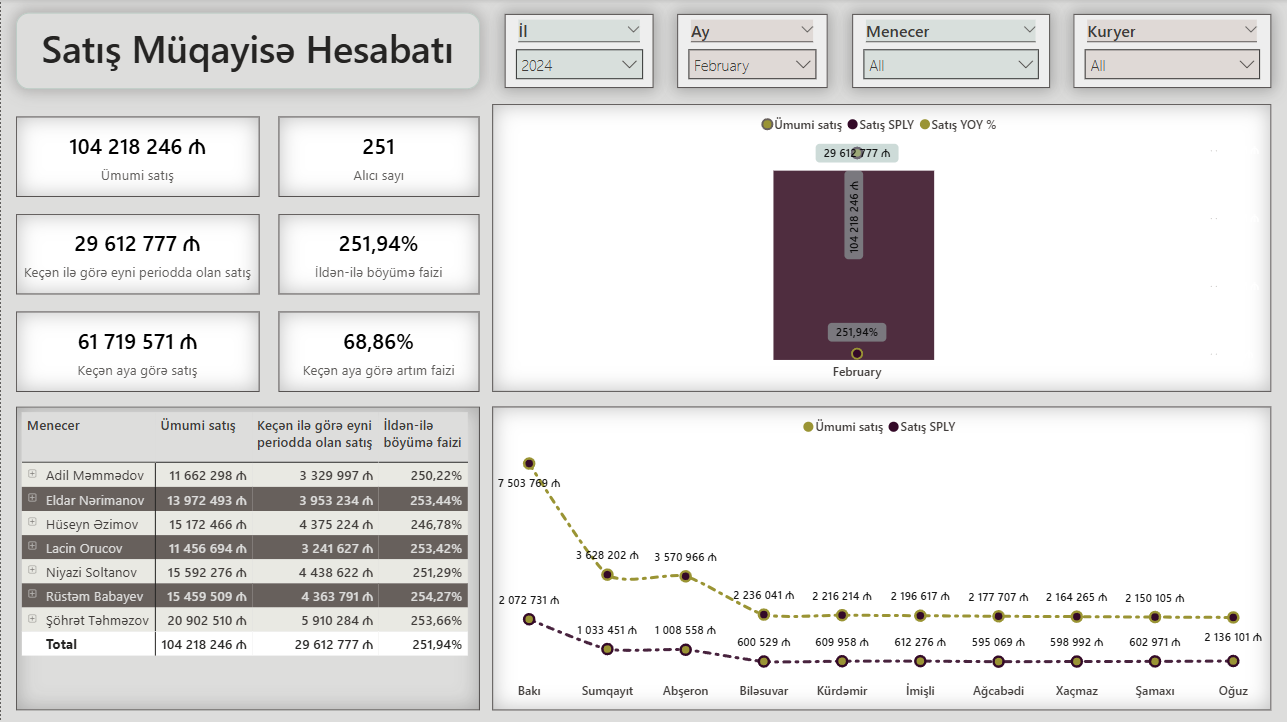

Layout of this report page (visuals, bound fields, positions):
{"tool":"powerbi","page":{"name":"Satış müqayisə","canvas":[1280,720],"ordinal":1},"visuals":[{"type":"slicer","fields":{"Values":["Tarix.Date.Variation.Date Hierarchy.Year"]},"box":[500.7,14.9,148,73.4],"z":0},{"type":"slicer","fields":{"Values":["Tarix.Date.Variation.Date Hierarchy.Month"]},"box":[673,14.9,149.3,73.4],"z":1000},{"type":"slicer","fields":{"Values":["Alıcı Bazası.Menecer"]},"box":[846.5,14.9,196.5,73.4],"z":2000},{"type":"slicer","fields":{"Values":["Alıcı Bazası.Kuryer"]},"box":[1067.3,14.9,196.5,73.4],"z":3000},{"type":"textbox","box":[14.9,13.7,461.5,75.9],"z":4000},{"type":"lineClusteredColumnComboChart","fields":{"Y":["Satış DAX.Ümumi satış"],"Category":["Tarix.Date.Variation.Date Hierarchy.Month"],"Y2":["Satış DAX.Satış SPLY","Satış DAX.Satış YOY %"]},"box":[488.9,104.5,775,286.1],"z":5000},{"type":"pivotTable","fields":{"Rows":["Alıcı Bazası.Menecer","Alıcı Bazası.Kuryer","Alıcı Bazası.Alıcı adı"],"Values":["Satış DAX.Ümumi satış","Satış DAX.Satış SPLY","Satış DAX.Satış YOY %"]},"box":[14.9,405.5,461.5,302.3],"z":6000},{"type":"lineChart","fields":{"Y":["Satış DAX.Ümumi satış","Satış DAX.Satış SPLY"],"Category":["Alıcı Bazası.Şəhər"]},"box":[488.9,405.5,775,302.3],"z":7000},{"type":"card","fields":{"Values":["Satış DAX.Ümumi satış"]},"box":[14.9,116.9,242.6,79.6],"z":8000},{"type":"card","fields":{"Values":["Satış DAX.Satış LM"]},"box":[14.9,311,242.6,79.6],"z":9000},{"type":"card","fields":{"Values":["Satış DAX.Satış SPLY"]},"box":[14.9,214,242.6,79.6],"z":10000},{"type":"card","fields":{"Values":["Satış DAX.Satış LM %"]},"box":[276.2,311,200.3,79.6],"z":11000},{"type":"card","fields":{"Values":["Satış DAX.Satış YOY %"]},"box":[276.2,214,200.3,79.6],"z":12000},{"type":"card","fields":{"Values":["Satış DAX.Alıcı sayı"]},"box":[276.2,116.9,200.3,79.6],"z":13000}]}

Visuals, with their boxes in screenshot pixels (x1, y1, x2, y2), scaled from the page's 1280x720 canvas onto the 1287x722 screenshot:
slicer - Tarix.Date.Variation.Date Hierarchy.Year: region(503, 15, 652, 89)
slicer - Tarix.Date.Variation.Date Hierarchy.Month: region(677, 15, 827, 89)
slicer - Alıcı Bazası.Menecer: region(851, 15, 1049, 89)
slicer - Alıcı Bazası.Kuryer: region(1073, 15, 1271, 89)
textbox: region(15, 14, 479, 90)
lineClusteredColumnComboChart - Satış DAX.Ümumi satış x Tarix.Date.Variation.Date Hierarchy.Month: region(492, 105, 1271, 392)
pivotTable - Alıcı Bazası.Menecer x Alıcı Bazası.Kuryer: region(15, 407, 479, 710)
lineChart - Satış DAX.Ümumi satış x Satış DAX.Satış SPLY: region(492, 407, 1271, 710)
card - Satış DAX.Ümumi satış: region(15, 117, 259, 197)
card - Satış DAX.Satış LM: region(15, 312, 259, 392)
card - Satış DAX.Satış SPLY: region(15, 215, 259, 294)
card - Satış DAX.Satış LM %: region(278, 312, 479, 392)
card - Satış DAX.Satış YOY %: region(278, 215, 479, 294)
card - Satış DAX.Alıcı sayı: region(278, 117, 479, 197)
